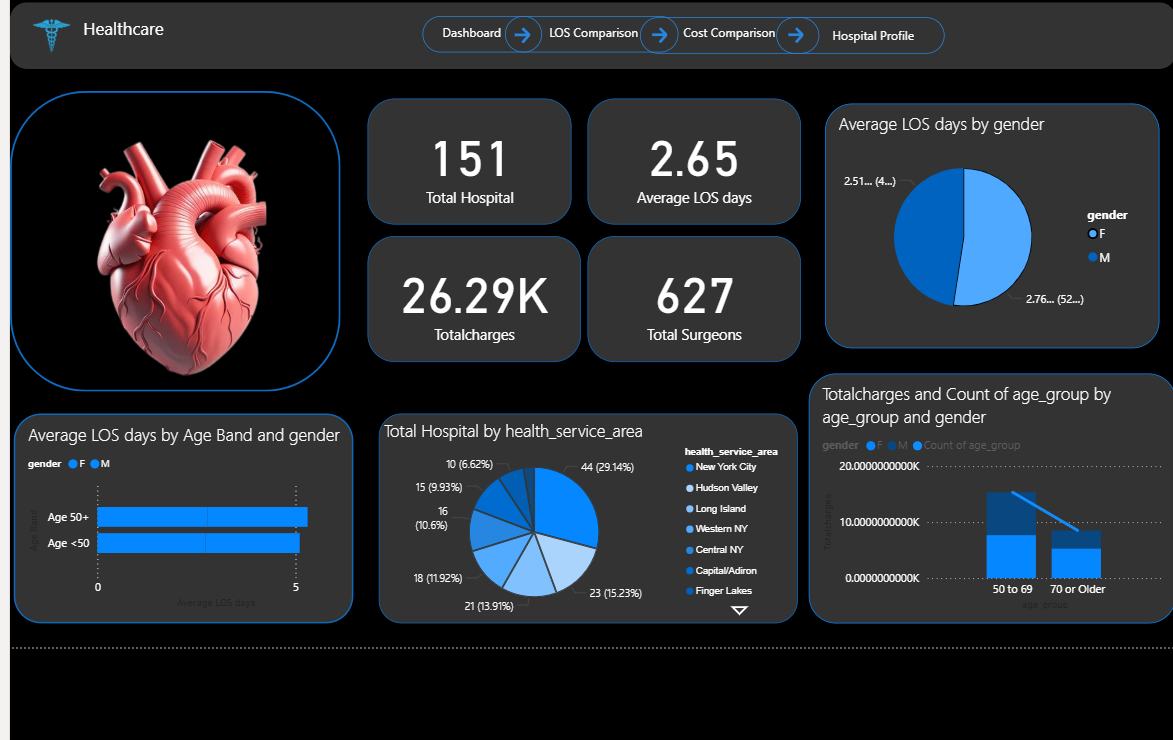

This screenshot's page, from the dashboard's own definition file:
{"tool":"powerbi","page":{"name":"Dashboard","canvas":[1280,720],"ordinal":0},"visuals":[{"type":"shape","box":[0,11.7,1280,73.3],"z":0},{"type":"pieChart","fields":{"Category":["hospital_inpatient_discharges_totalhipreplacement.health_service_area"],"Y":["Hospital.Total Hospital"]},"box":[404.3,464.3,460,230],"z":1000},{"type":"card","fields":{"Values":["Hospital.Totalcharges"]},"box":[392.9,268.6,234.3,138.6],"z":2000},{"type":"lineStackedColumnComboChart","fields":{"Category":["hospital_inpatient_discharges_totalhipreplacement.age_group"],"Y":["Hospital.Totalcharges"],"Series":["hospital_inpatient_discharges_totalhipreplacement.gender"],"Y2":["CountNonNull(hospital_inpatient_discharges_totalhipreplacement.age_group)"]},"box":[877.1,420,402.9,274.3],"z":3000},{"type":"pieChart","fields":{"Y":["Hospital.Average LOS days"],"Category":["hospital_inpatient_discharges_totalhipreplacement.gender"]},"box":[894.3,122.9,367.1,268.6],"z":4000},{"type":"barChart","fields":{"Y":["Hospital.Average LOS days"],"Category":["hospital_inpatient_discharges_totalhipreplacement.Age Band"],"Series":["hospital_inpatient_discharges_totalhipreplacement.gender"]},"box":[4.3,464.3,372.9,230],"z":5000},{"type":"card","fields":{"Values":["Hospital.Total Hospital"]},"box":[392.9,118.6,224.3,138.6],"z":6000},{"type":"card","fields":{"Values":["measure.Average LOS days"]},"box":[634.3,118.6,234.3,138.6],"z":7000},{"type":"card","fields":{"Values":["measure.Total Surgeons"]},"box":[634.3,268.6,234.3,138.6],"z":8000},{"type":"shape","box":[0,110,362.9,330],"z":9000},{"type":"image","box":[15,90,348.3,413.3],"z":10000},{"type":"image","box":[4.5,9.1,82.7,80],"z":11000},{"type":"textbox","box":[75,23.3,131.7,38.3],"z":12000},{"type":"textbox","box":[448,32,123,45],"z":13000},{"type":"textbox","box":[571,32,140,40],"z":14000},{"type":"textbox","box":[718.8,32,141.6,40],"z":15000},{"type":"textbox","box":[876.7,34.2,141.7,40],"z":16000},{"type":"actionButton","box":[453,28,131,40],"z":17000},{"type":"actionButton","box":[544,28,190,40],"z":18000},{"type":"actionButton","box":[691.7,28.3,196.7,40],"z":19000},{"type":"actionButton","box":[841.7,28.3,185,40],"z":20000},{"type":"actionButton","box":[548.5,35,39.6,26.2],"z":21000},{"type":"actionButton","box":[699.5,35.3,39.5,25.8],"z":22000},{"type":"actionButton","box":[848.9,35.8,39.5,25.8],"z":23000}]}

Visuals, with their boxes on the page's 1280x720 design canvas (x1, y1, x2, y2). These are canvas units, not pixel positions in the 1173x740 screenshot, which may show the page scaled, cropped or inside an application window:
shape: (0, 12, 1280, 85)
pieChart - hospital_inpatient_discharges_totalhipreplacement.health_service_area x Hospital.Total Hospital: (404, 464, 864, 694)
card - Hospital.Totalcharges: (393, 269, 627, 407)
lineStackedColumnComboChart - hospital_inpatient_discharges_totalhipreplacement.age_group x Hospital.Totalcharges: (877, 420, 1280, 694)
pieChart - Hospital.Average LOS days x hospital_inpatient_discharges_totalhipreplacement.gender: (894, 123, 1261, 392)
barChart - Hospital.Average LOS days x hospital_inpatient_discharges_totalhipreplacement.Age Band: (4, 464, 377, 694)
card - Hospital.Total Hospital: (393, 119, 617, 257)
card - measure.Average LOS days: (634, 119, 869, 257)
card - measure.Total Surgeons: (634, 269, 869, 407)
shape: (0, 110, 363, 440)
image: (15, 90, 363, 503)
image: (4, 9, 87, 89)
textbox: (75, 23, 207, 62)
textbox: (448, 32, 571, 77)
textbox: (571, 32, 711, 72)
textbox: (719, 32, 860, 72)
textbox: (877, 34, 1018, 74)
actionButton: (453, 28, 584, 68)
actionButton: (544, 28, 734, 68)
actionButton: (692, 28, 888, 68)
actionButton: (842, 28, 1027, 68)
actionButton: (548, 35, 588, 61)
actionButton: (700, 35, 739, 61)
actionButton: (849, 36, 888, 62)
